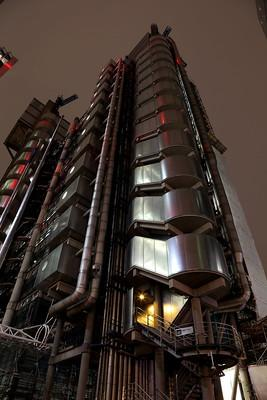building: (3, 24, 252, 400)
